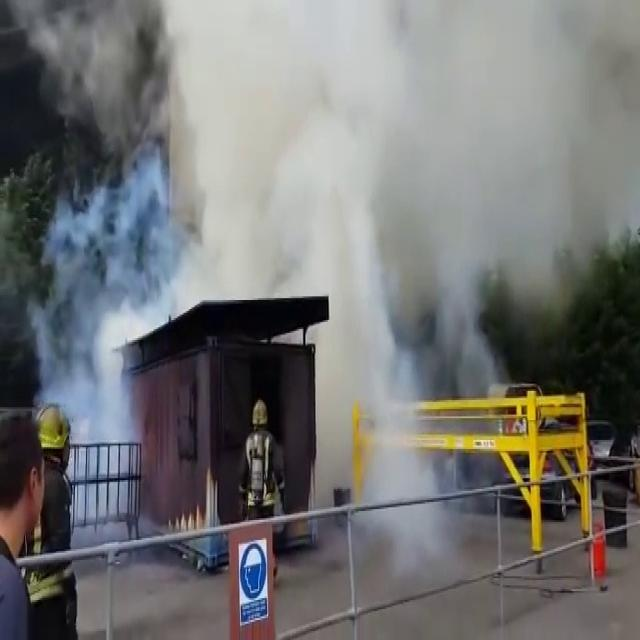Smoke: (170, 0, 570, 230), (306, 250, 450, 554), (27, 227, 144, 513)
